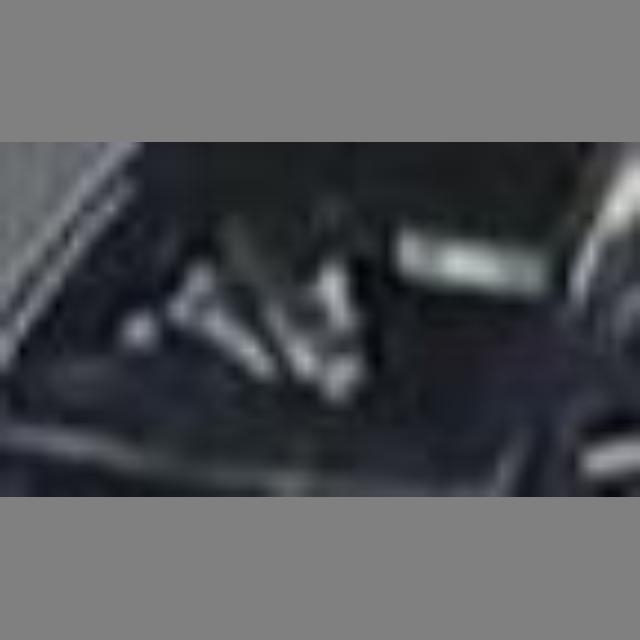pakai: (169, 213, 382, 435)
